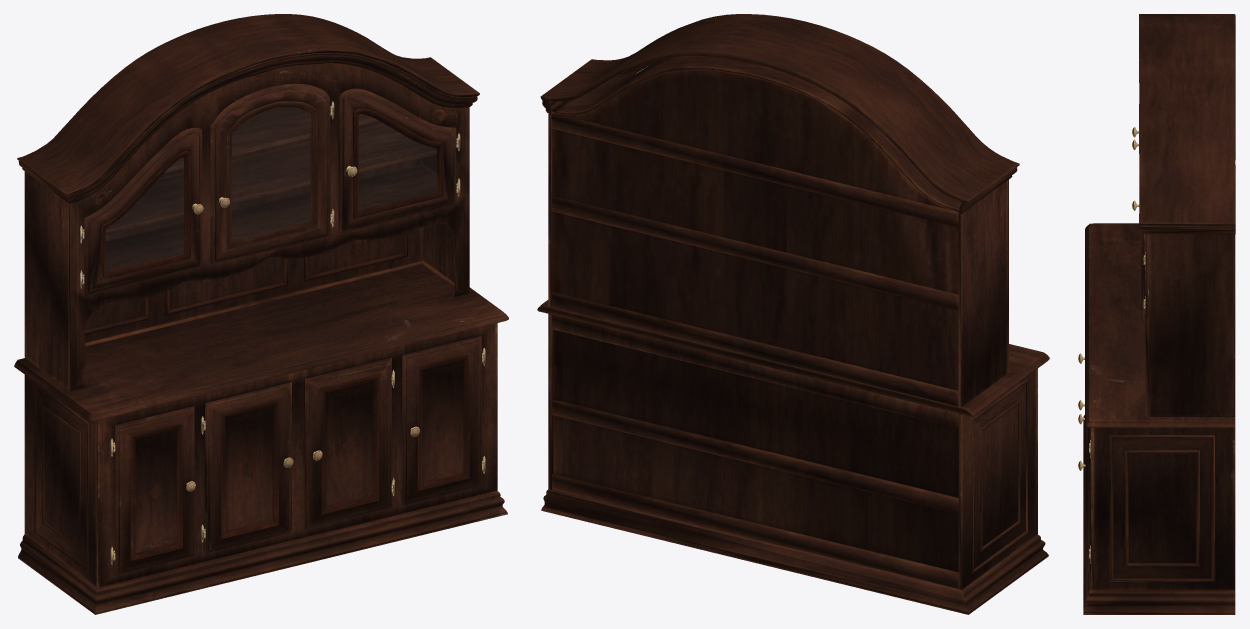
Rendered from vintage_cabinet_01.glb.
The picture shows the model from 3 angles, left to right: view 1: azimuth 30°, elevation 25°; view 2: azimuth 150°, elevation 25°; view 3: azimuth 270°, elevation 25°; orthographic projection. The views are drawn at different scales.
Parts seen in each view (by area): view 1: vintage_cabinet_01_body, vintage_cabinet_01_door_01; view 2: vintage_cabinet_01_body; view 3: vintage_cabinet_01_body.
Boxes of the visible parts, left/top/right/bottom form: vintage_cabinet_01_body: left=14, top=14, right=508, bottom=614; vintage_cabinet_01_door_01: left=106, top=107, right=436, bottom=271; vintage_cabinet_01_body: left=537, top=14, right=1049, bottom=614; vintage_cabinet_01_body: left=1078, top=14, right=1235, bottom=614.
Size of the model in its own units: 2.02 by 2.23 by 0.6697.
3 materials, 2 textured.
